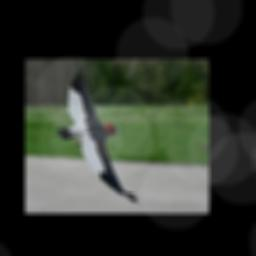Woodpecker: (55, 70, 137, 203)
